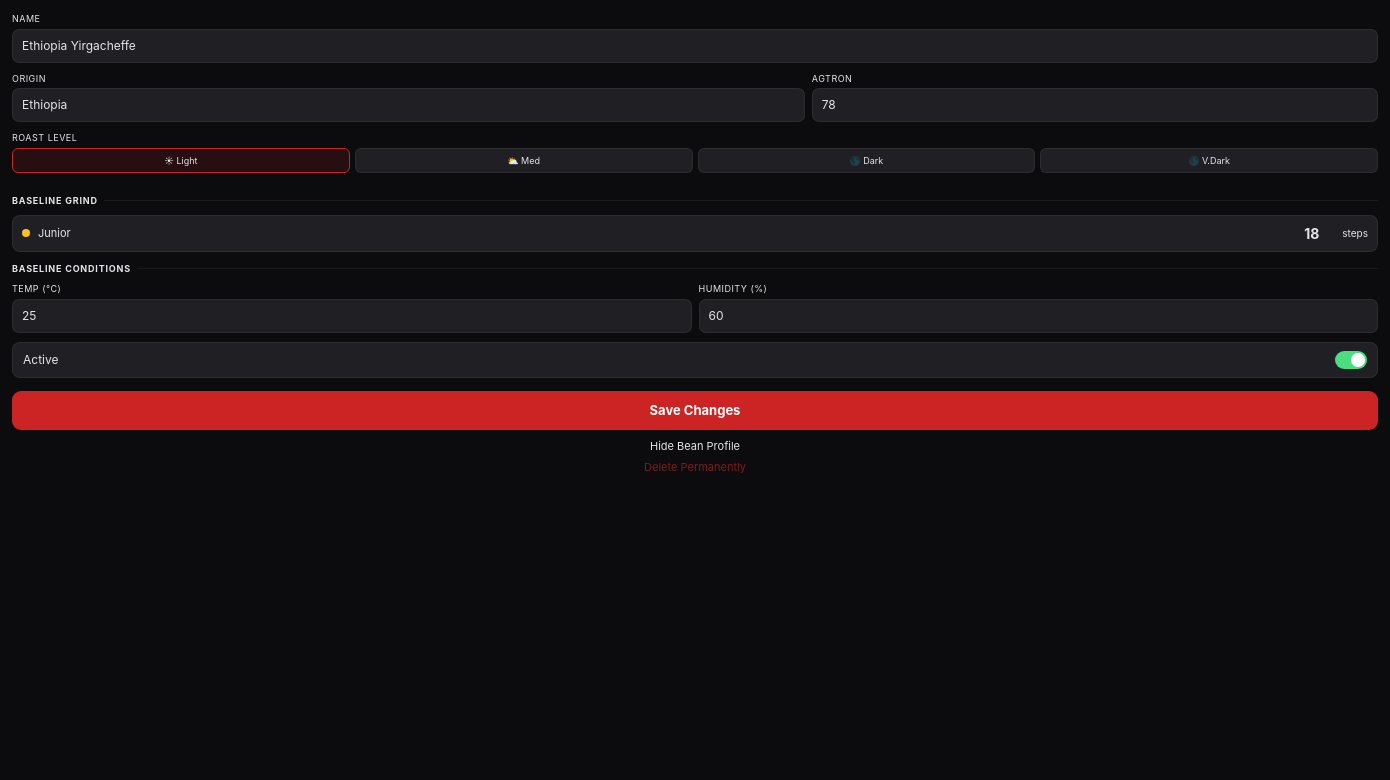
BeanForm — edit mode › shows confirmation text after first Delete click
The image size is (1390, 780).
Step 1. Click the button "Delete Permanently" → (695, 467), box [12,458,1378,475]
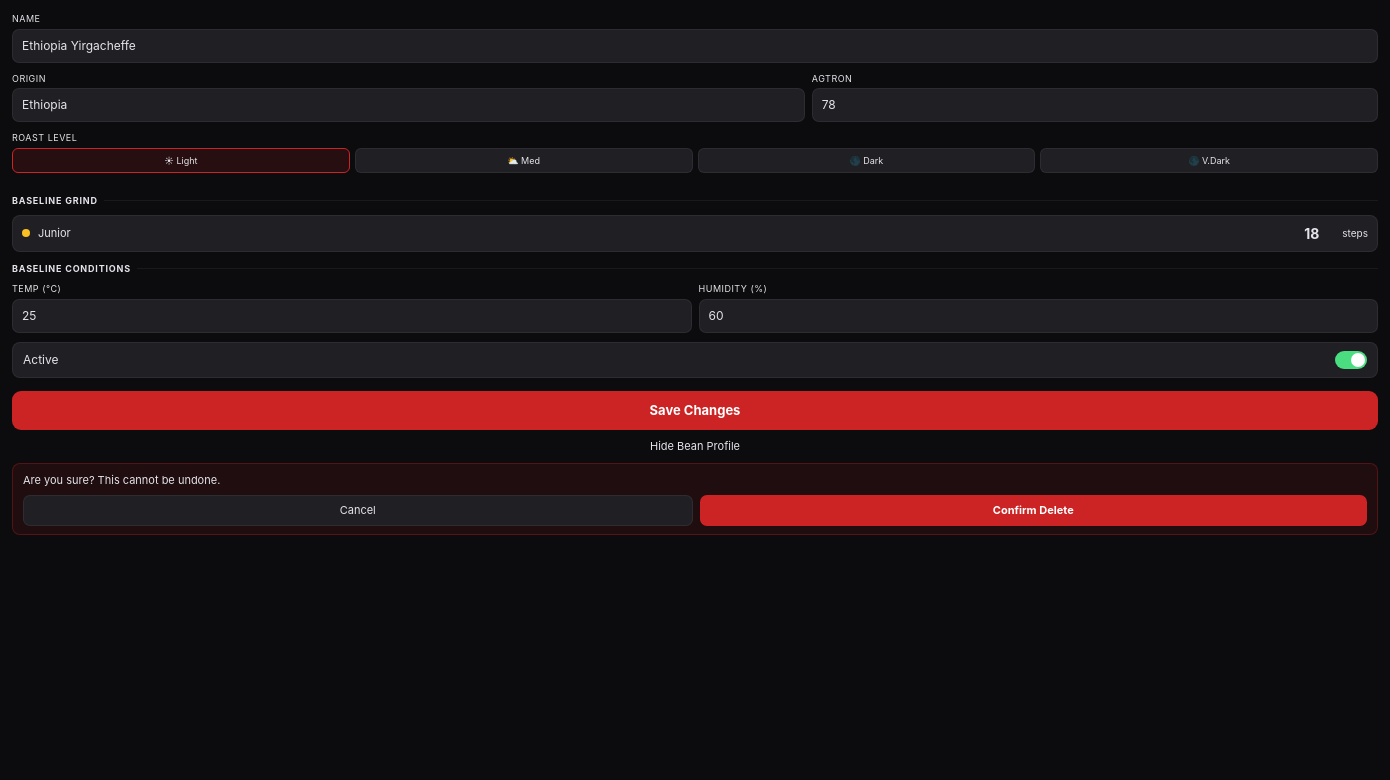
Result: the text "Are you sure? This cannot be undone." is shown at [23,472,220,486]
Result: the button "Confirm Delete" is shown at [700,495,1367,526]
